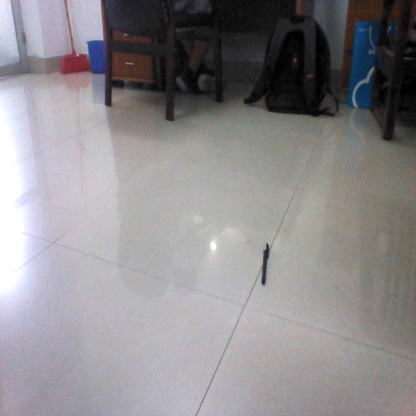pen: (258, 244, 269, 287)
